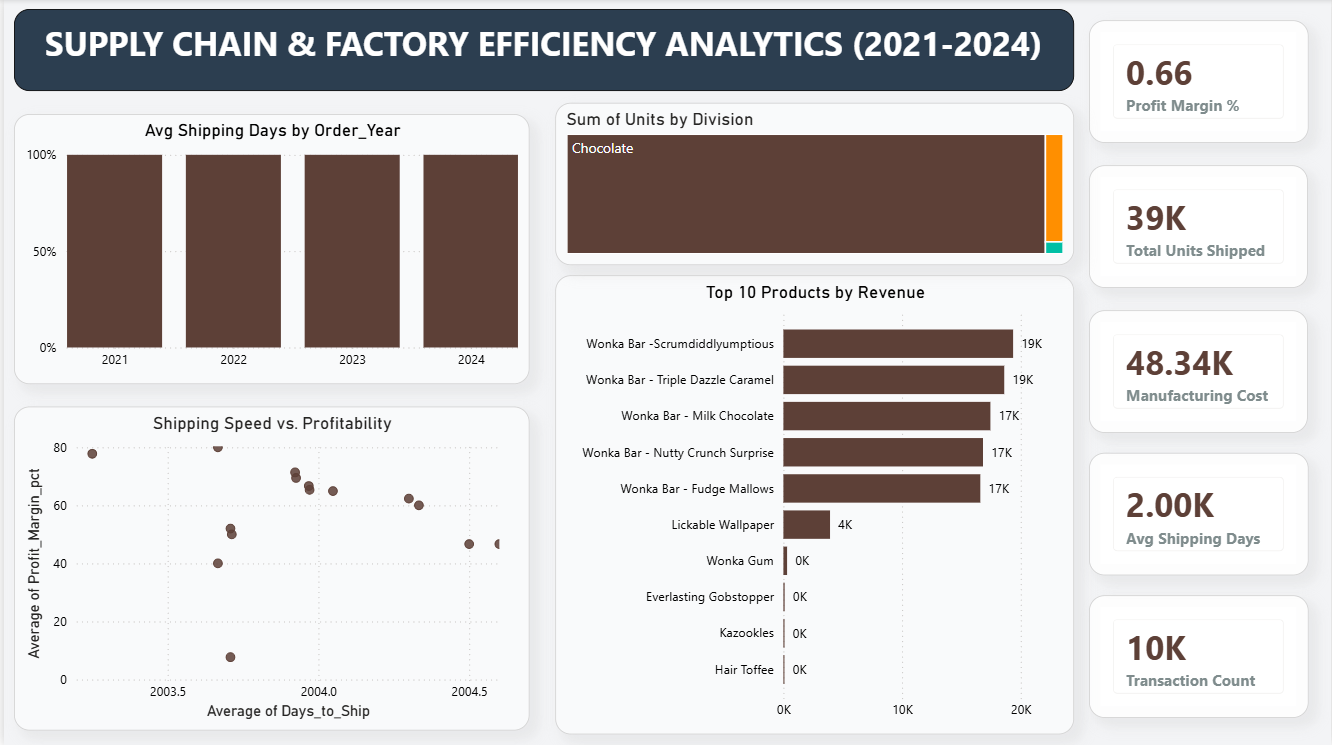

The dashboard page shown, as its layout file describes it:
{"tool":"powerbi","page":{"name":"Page 2","canvas":[1280,720],"ordinal":1},"visuals":[{"type":"clusteredBarChart","title":"Top 10 Products by Revenue","fields":{"Category":["Candy_Sales_Analytical.Product_Name"],"Y":["Candy_Sales_Analytical.Total Profit"]},"box":[532.3,266.8,501,443.4],"z":0},{"type":"cardVisual","fields":{"Data":["Candy_Sales_Analytical.Transaction Count"]},"box":[1047,574.9,211.7,118],"z":1000},{"type":"cardVisual","fields":{"Data":["Candy_Sales_Analytical.Profit Margin %"]},"box":[1047,20,211.7,118],"z":2000},{"type":"cardVisual","fields":{"Data":["Candy_Sales_Analytical.Total Units"]},"box":[1047.2,160.5,211.1,118.2],"z":3000},{"type":"textbox","box":[10.1,10.1,1022.9,79.4],"z":4000},{"type":"cardVisual","fields":{"Data":["Avg(Candy_Sales_Analytical.Days_to_Ship)"]},"box":[1047,438.4,211.7,118],"z":5000},{"type":"cardVisual","fields":{"Data":["Sum(Candy_Sales_Analytical.Cost)"]},"box":[1047.2,300.4,211.1,118.2],"z":6000},{"type":"hundredPercentStackedColumnChart","title":"Avg Shipping  Days by Order_Year","fields":{"Y":["Avg(Candy_Sales_Analytical.Days_to_Ship)"],"Category":["Candy_Sales_Analytical.Order_Year"]},"box":[10.1,111.1,497.8,261.1],"z":7000},{"type":"treemap","fields":{"Group":["Candy_Sales_Analytical.Division"],"Values":["Sum(Candy_Sales_Analytical.Units)"]},"box":[532.3,100.2,501,156.6],"z":8000},{"type":"scatterChart","title":"Shipping Speed vs. Profitability","fields":{"X":["Avg(Candy_Sales_Analytical.Days_to_Ship)"],"Y":["Avg(Candy_Sales_Analytical.Profit_Margin_pct)"],"Category":["Candy_Sales_Analytical.Product_Name"]},"box":[10,393.3,497.2,313.1],"z":9000}]}

Visuals, with their boxes in screenshot pixels (x1, y1, x2, y2), scaled from the page's 1280x720 canvas onto the 1332x745 screenshot:
"Top 10 Products by Revenue" clusteredBarChart: (left=554, top=276, right=1075, bottom=735)
cardVisual - Candy_Sales_Analytical.Transaction Count: (left=1090, top=595, right=1310, bottom=717)
cardVisual - Candy_Sales_Analytical.Profit Margin %: (left=1090, top=21, right=1310, bottom=143)
cardVisual - Candy_Sales_Analytical.Total Units: (left=1090, top=166, right=1309, bottom=288)
textbox: (left=11, top=10, right=1075, bottom=93)
cardVisual - Avg(Candy_Sales_Analytical.Days_to_Ship): (left=1090, top=454, right=1310, bottom=576)
cardVisual - Sum(Candy_Sales_Analytical.Cost): (left=1090, top=311, right=1309, bottom=433)
"Avg Shipping  Days by Order_Year" hundredPercentStackedColumnChart: (left=11, top=115, right=529, bottom=385)
treemap - Candy_Sales_Analytical.Division x Sum(Candy_Sales_Analytical.Units): (left=554, top=104, right=1075, bottom=266)
"Shipping Speed vs. Profitability" scatterChart: (left=10, top=407, right=528, bottom=731)
